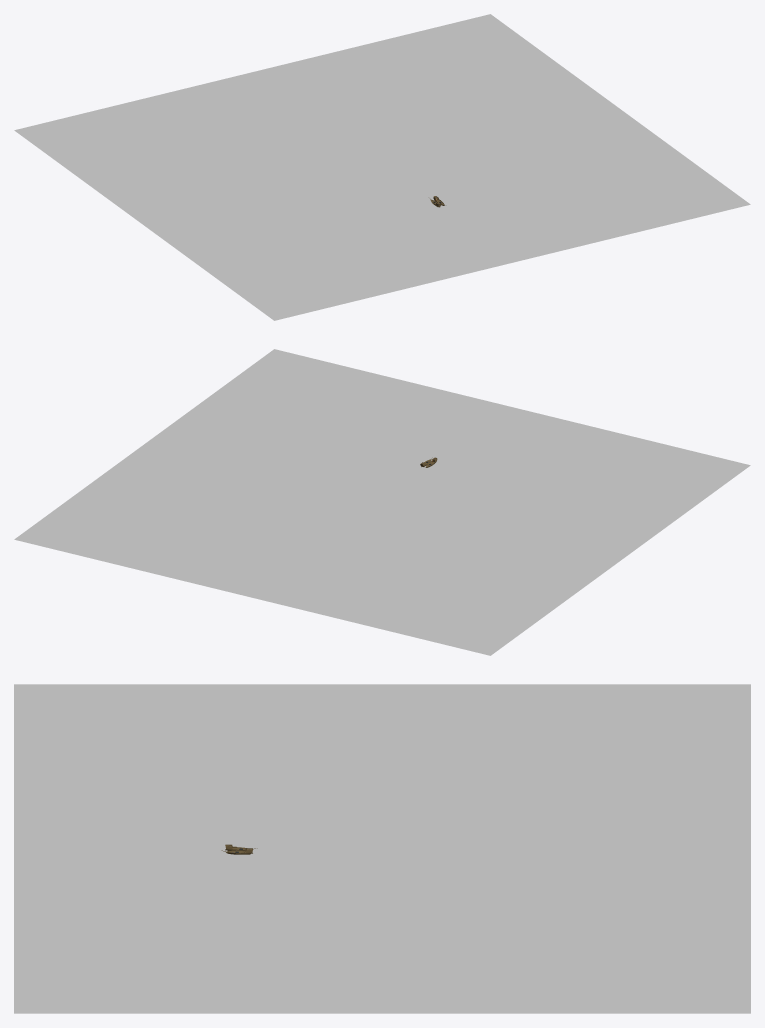
Rendered from Twoboats.fbx.
The picture shows the model from 3 angles, top to bottom: view 1: azimuth 30°, elevation 25°; view 2: azimuth 150°, elevation 25°; view 3: azimuth 270°, elevation 25°; orthographic projection. The views are drawn at different scales.
Parts seen in each view (by area): view 1: pPlane3; view 2: pPlane3; view 3: pPlane3.
Boxes of the visible parts, <box> form: pPlane3: <box>14,14,750,320</box>; pPlane3: <box>14,349,750,655</box>; pPlane3: <box>14,684,750,1013</box>.
Bounding box in the file's own units: 8096 × 92.48 × 7661.
